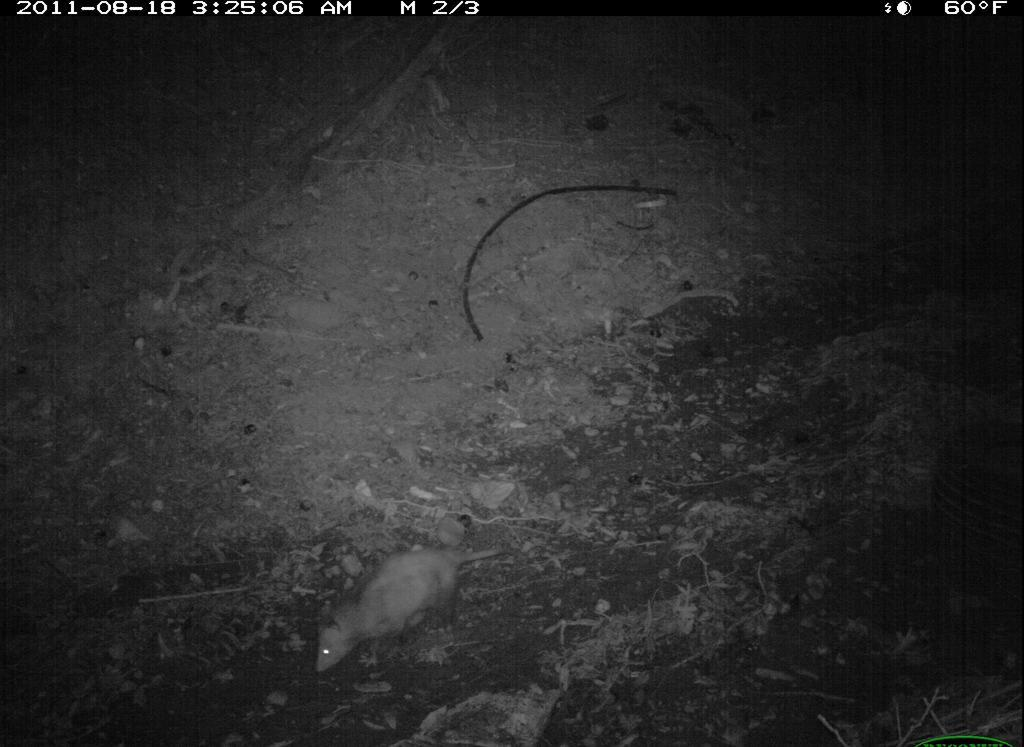opossum: (308, 538, 542, 679)
